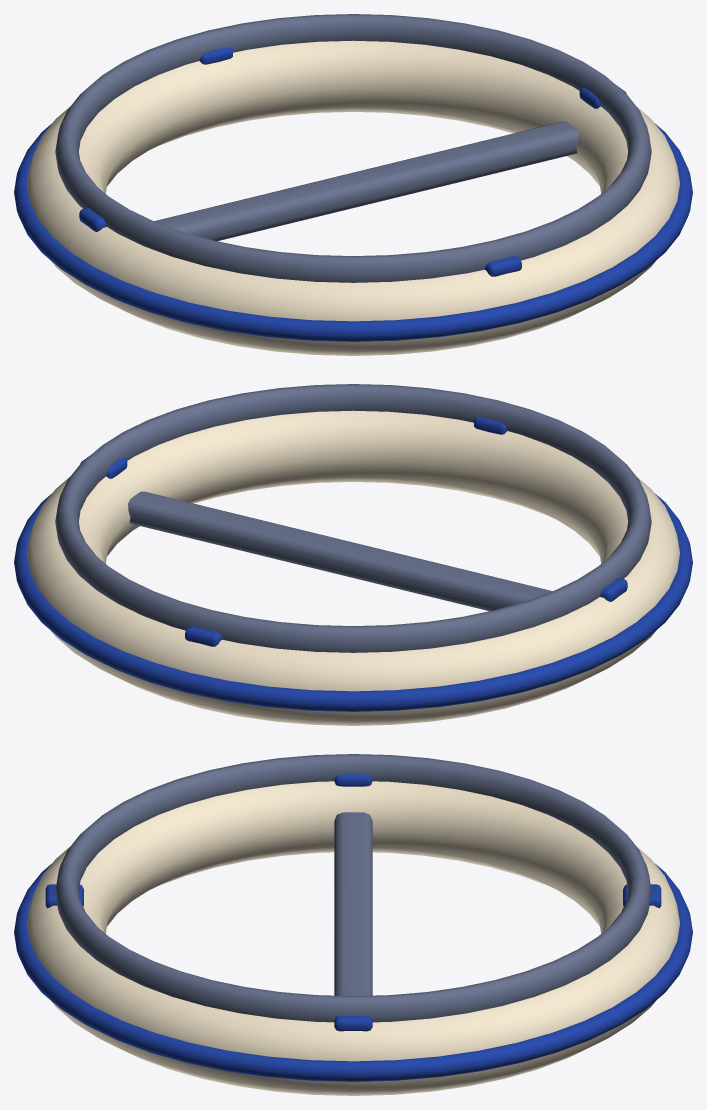
File: exit-locked.glb
3 views of the same model, one above another, from view 1: azimuth 30°, elevation 25°; view 2: azimuth 150°, elevation 25°; view 3: azimuth 270°, elevation 25° (orthographic).
Visible parts, largest first — view 1: exit-locked • ivory frame, exit-locked • state ring, exit-locked • cobalt bead, exit-locked • closed bridge, exit-locked • compass tab.003; view 2: exit-locked • ivory frame, exit-locked • state ring, exit-locked • cobalt bead, exit-locked • closed bridge, exit-locked • compass tab.001; view 3: exit-locked • ivory frame, exit-locked • state ring, exit-locked • cobalt bead, exit-locked • closed bridge, exit-locked • compass tab.
Boxes of the visible parts, x1=… form: exit-locked • ivory frame: x1=27, y1=40, x2=679, y2=355; exit-locked • state ring: x1=55, y1=14, x2=651, y2=282; exit-locked • cobalt bead: x1=14, y1=123, x2=692, y2=341; exit-locked • closed bridge: x1=154, y1=121, x2=578, y2=241; exit-locked • compass tab.003: x1=484, y1=256, x2=521, y2=276; exit-locked • ivory frame: x1=27, y1=410, x2=679, y2=725; exit-locked • state ring: x1=55, y1=384, x2=651, y2=652; exit-locked • cobalt bead: x1=14, y1=493, x2=692, y2=711; exit-locked • closed bridge: x1=128, y1=491, x2=552, y2=611; exit-locked • compass tab.001: x1=185, y1=626, x2=222, y2=646; exit-locked • ivory frame: x1=27, y1=781, x2=679, y2=1095; exit-locked • state ring: x1=55, y1=754, x2=651, y2=1022; exit-locked • cobalt bead: x1=14, y1=863, x2=692, y2=1081; exit-locked • closed bridge: x1=334, y1=812, x2=372, y2=995; exit-locked • compass tab: x1=334, y1=1015, x2=372, y2=1031.
Size of the model in its own units: 1.15 by 0.1721 by 1.15.
